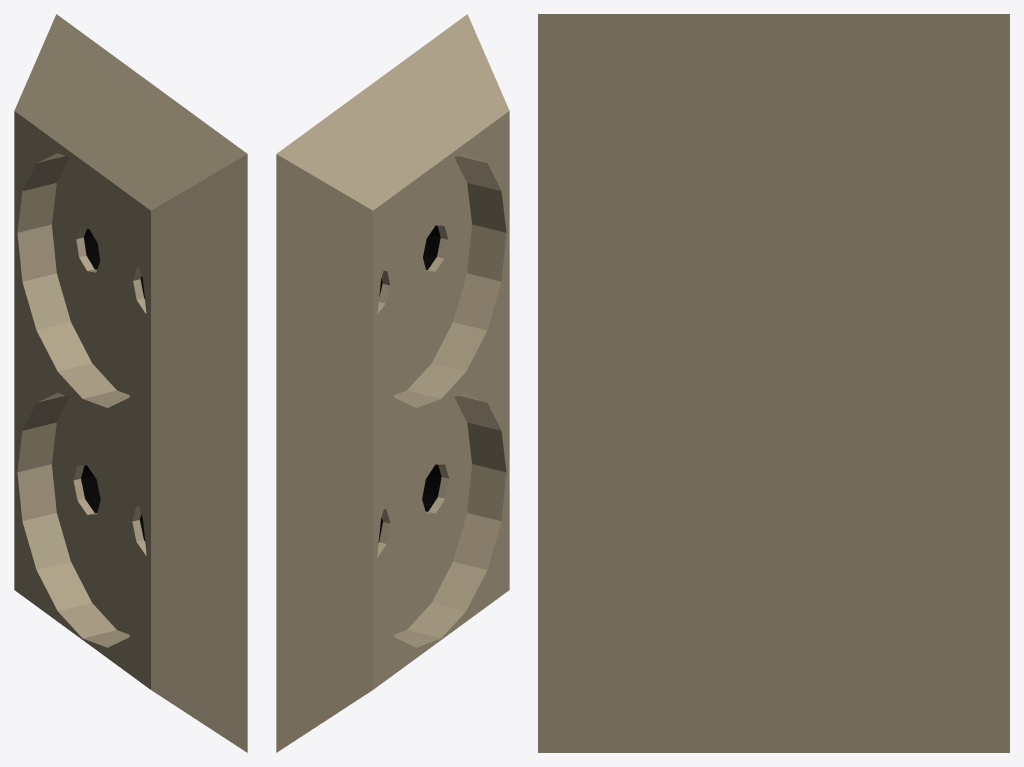
Rendered from power_socket.glb.
3 views of the same model, side by side, from view 1: azimuth 30°, elevation 25°; view 2: azimuth 150°, elevation 25°; view 3: azimuth 270°, elevation 25° (orthographic). The views are drawn at different scales.
Parts seen in each view (by area): view 1: PowerSocketMesh; view 2: PowerSocketMesh; view 3: PowerSocketMesh.
Part boxes in pixels (<box>): PowerSocketMesh: <box>14,14,247,752</box>; PowerSocketMesh: <box>276,14,509,752</box>; PowerSocketMesh: <box>538,14,1009,752</box>.
Bounding box in the file's own units: 0.0165 × 0.1359 × 0.0786.
